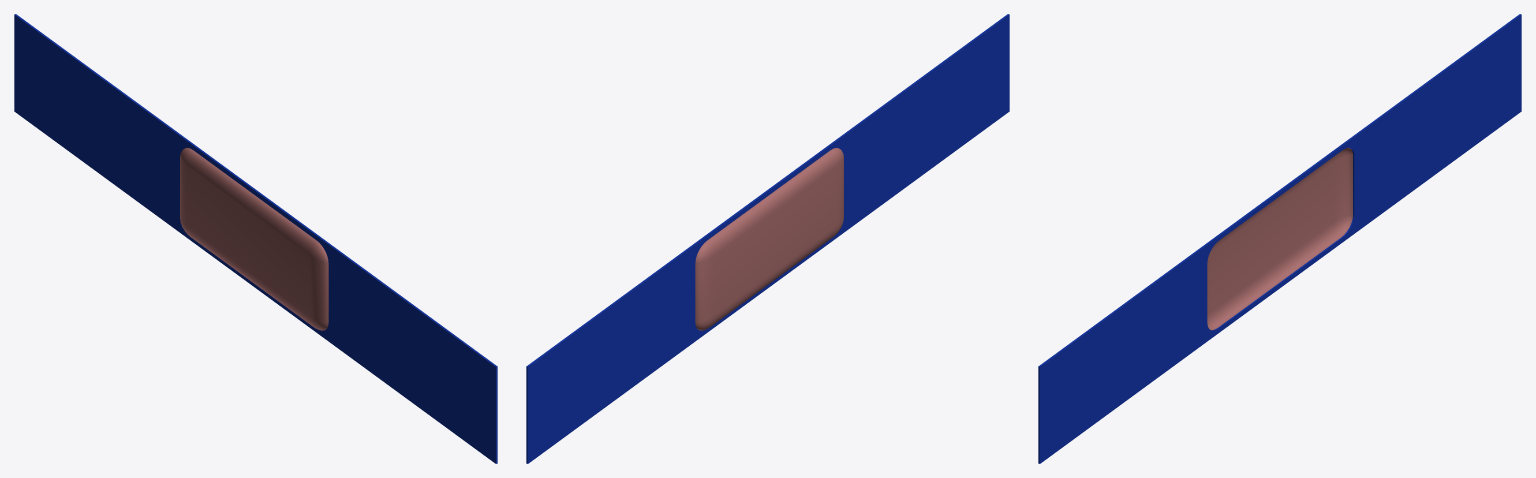
The model's file is 5X45 Center SQ Window.FBX.
The picture shows the model from 3 angles, left to right: view 1: azimuth 30°, elevation 25°; view 2: azimuth 150°, elevation 25°; view 3: azimuth 330°, elevation 25°; orthographic projection.
Parts seen in each view (by area): view 1: Box003; view 2: Box003; view 3: Box003.
Boxes of the visible parts, x1=… form: Box003: x1=14, y1=14, x2=497, y2=463; Box003: x1=526, y1=14, x2=1009, y2=463; Box003: x1=1038, y1=14, x2=1521, y2=463.
Size of the model in its own units: 0.4694 by 5 by 45.
